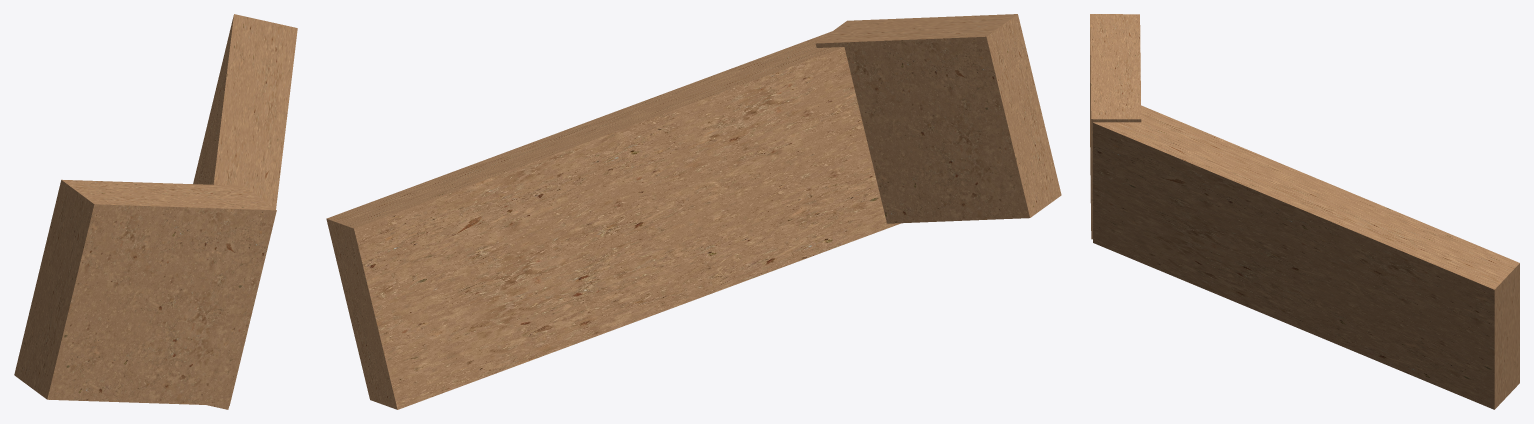
Rendered from Obstacle-flipper2.glb.
The picture shows the model from 3 angles, left to right: view 1: azimuth 30°, elevation 25°; view 2: azimuth 150°, elevation 25°; view 3: azimuth 270°, elevation 25°; orthographic projection. The views are drawn at different scales.
Visible parts, largest first — view 1: Cube_3_2_Mat.6_0.001, Cube_7_6_Mat.6_0.001; view 2: Cube_7_6_Mat.6_0.001, Cube_3_2_Mat.6_0.001; view 3: Cube_7_6_Mat.6_0.001, Cube_3_2_Mat.6_0.001.
Boxes of the visible parts, x1,y1,x2,y2 form: Cube_3_2_Mat.6_0.001: (14, 179, 276, 405); Cube_7_6_Mat.6_0.001: (193, 14, 297, 409); Cube_7_6_Mat.6_0.001: (326, 31, 900, 409); Cube_3_2_Mat.6_0.001: (815, 14, 1061, 223); Cube_7_6_Mat.6_0.001: (1093, 105, 1519, 409); Cube_3_2_Mat.6_0.001: (1090, 14, 1141, 239).
Size of the model in its own units: 0.5786 by 0.3413 by 0.5534.
Materials: 1 (1 with a texture image).
